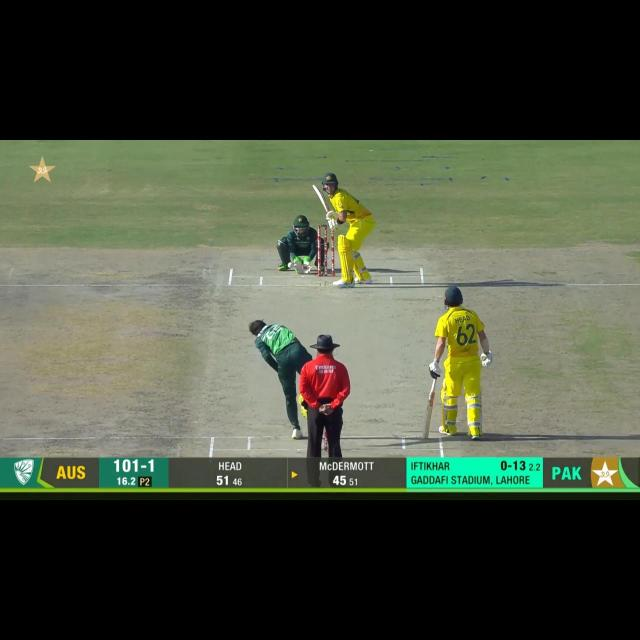bat: (311, 184, 331, 212), (423, 395, 433, 441)
toe: (421, 433, 430, 440), (310, 184, 319, 191)
